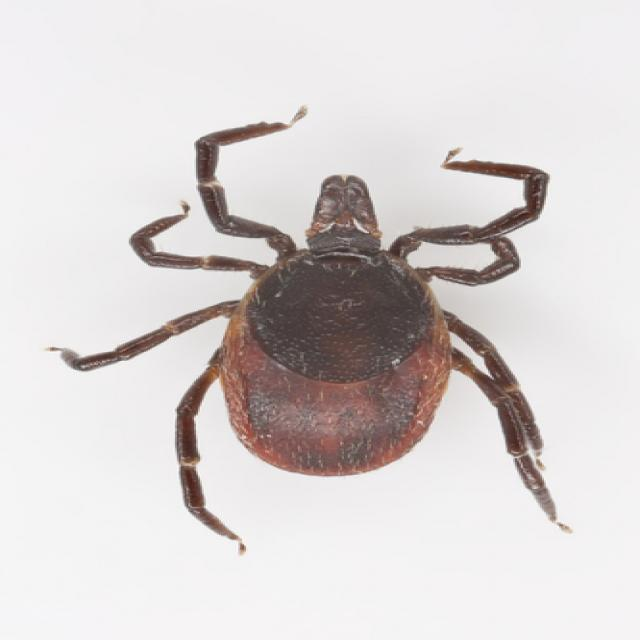Ixodes Ricinus-F: (48, 110, 573, 556)
